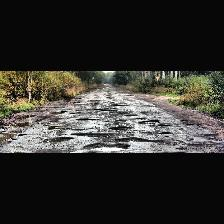pothole: (174, 143, 224, 153), (82, 142, 130, 152), (0, 131, 28, 147), (71, 133, 119, 137), (44, 138, 74, 144), (107, 127, 132, 131), (49, 111, 67, 115), (142, 120, 160, 124), (159, 132, 173, 136), (156, 124, 170, 128), (101, 110, 117, 113), (76, 119, 94, 121)
